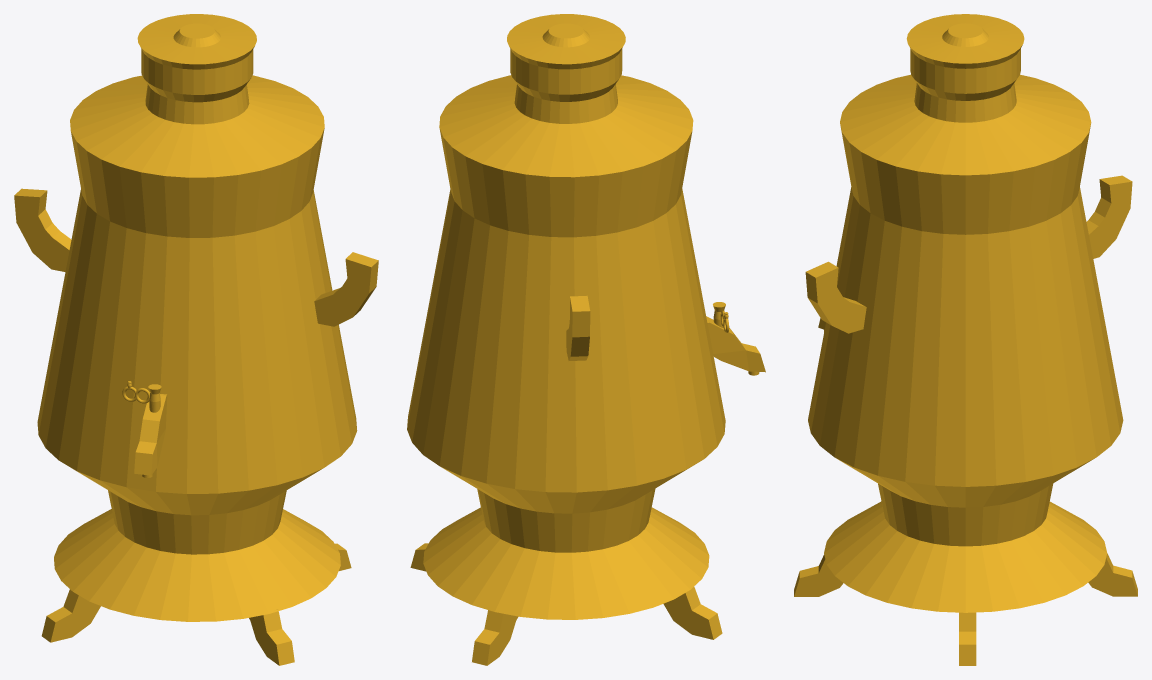
The model's file is Самовар.glb.
3 views of the same model, side by side, from view 1: azimuth 30°, elevation 25°; view 2: azimuth 150°, elevation 25°; view 3: azimuth 270°, elevation 25° (orthographic).
Parts seen in each view (by area): view 1: Cylinder; view 2: Cylinder; view 3: Cylinder.
Boxes of the visible parts, box(x1,y1,x2,y2) form: Cylinder: box(14, 14, 378, 665); Cylinder: box(407, 14, 765, 665); Cylinder: box(794, 14, 1137, 665).
Bounding box in the file's own units: 0.9803 × 1.77 × 0.98.
